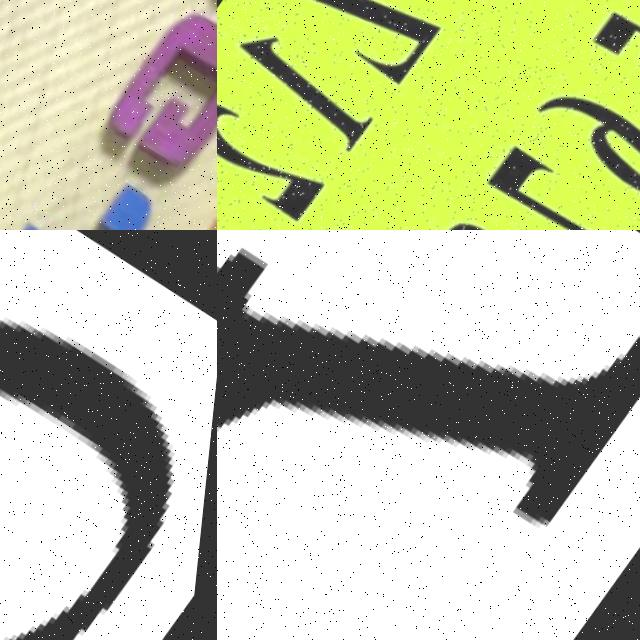1: (217, 4, 419, 176)
2: (217, 65, 368, 230)
3: (217, 127, 321, 230)
5: (556, 0, 640, 154)
6: (496, 45, 640, 230)
7: (445, 110, 640, 230)
8: (392, 183, 623, 230)
G: (98, 3, 217, 184)
J: (0, 155, 167, 230)
O: (0, 312, 184, 640)
R: (217, 230, 640, 640)
